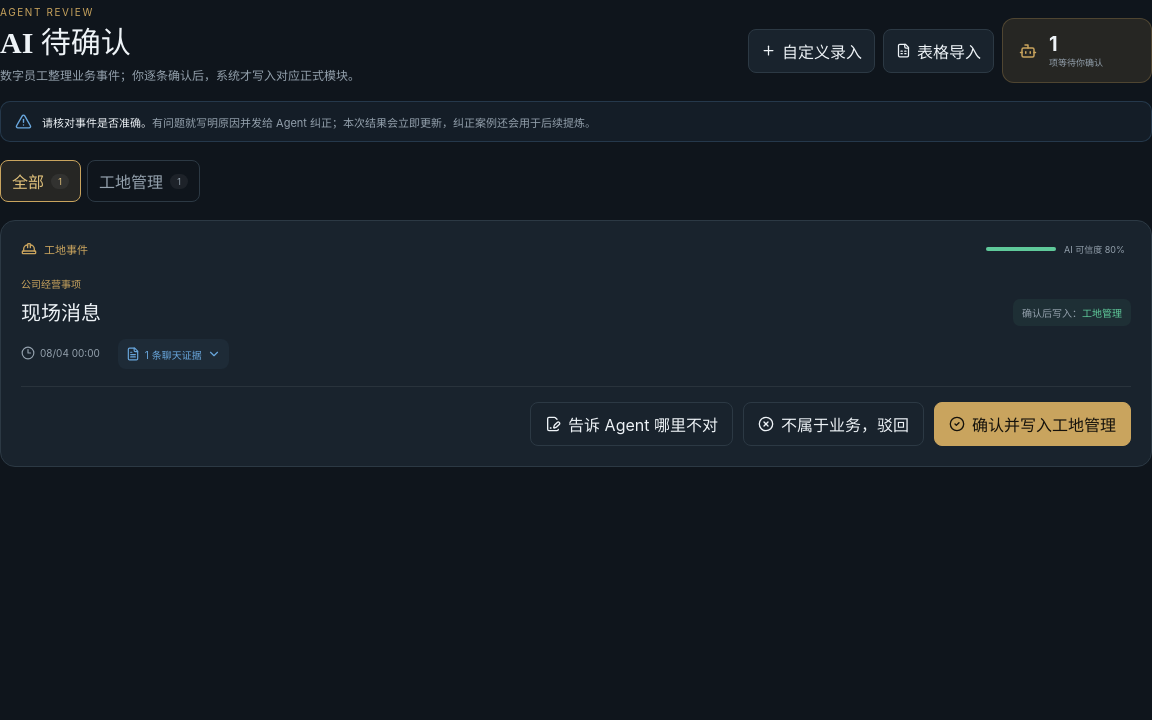
Scenario: AgentReviewPage › lets the owner label an unknown WeChat sender without AI
Click the button "1 条聊天证据" at (173, 354), box [118,339,229,369]
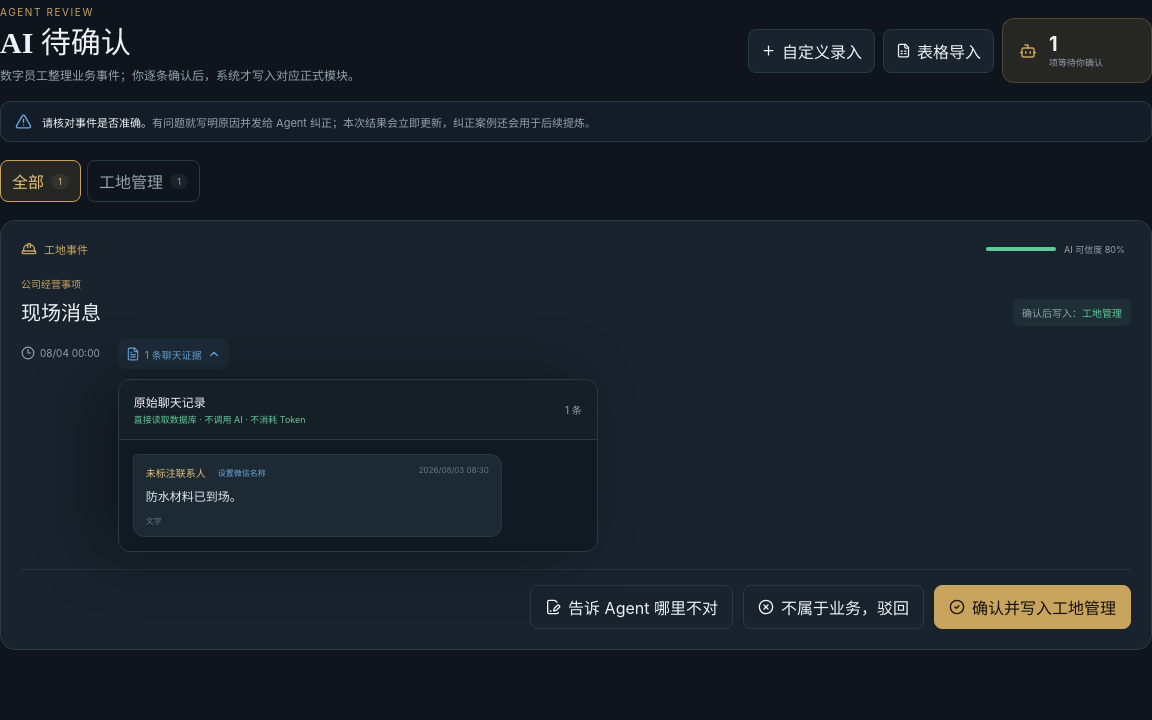
Expected: the text "未标注联系人" is shown, [146,465,206,480]
Click the button "设置微信名称" at (242, 472), box [214,466,270,479]
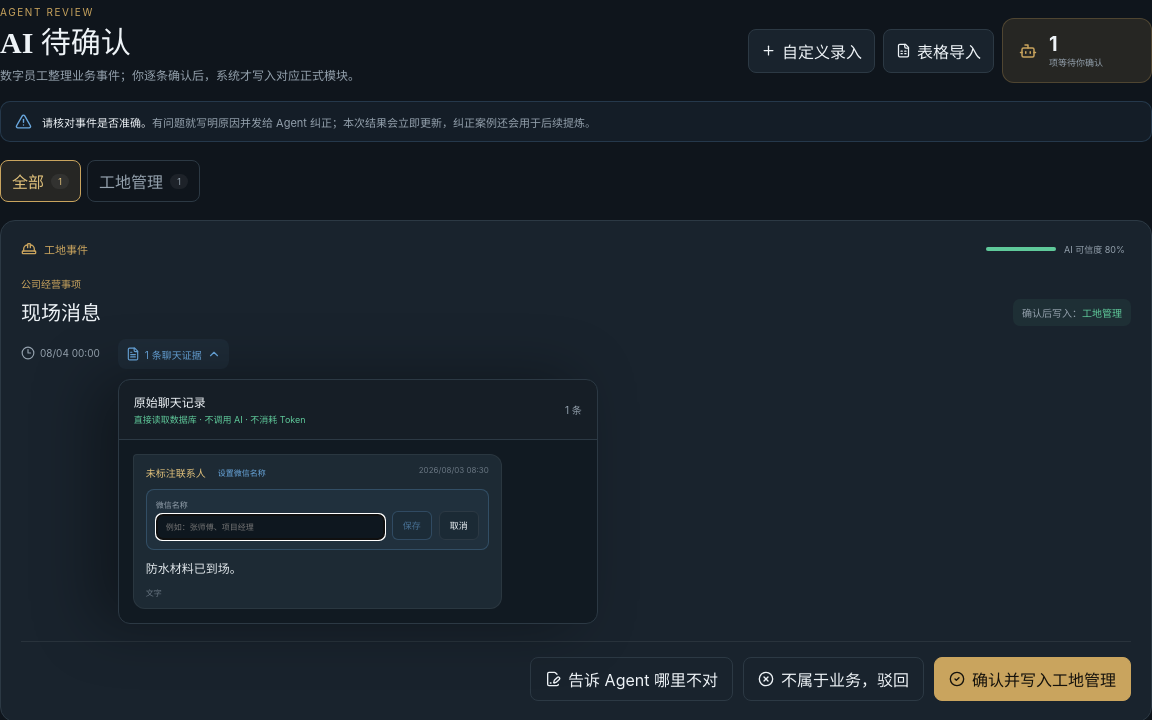
Type "张师傅" into the field with placeholder "例如：张师傅、项目经理" at (270, 527), box [156,514,385,540]
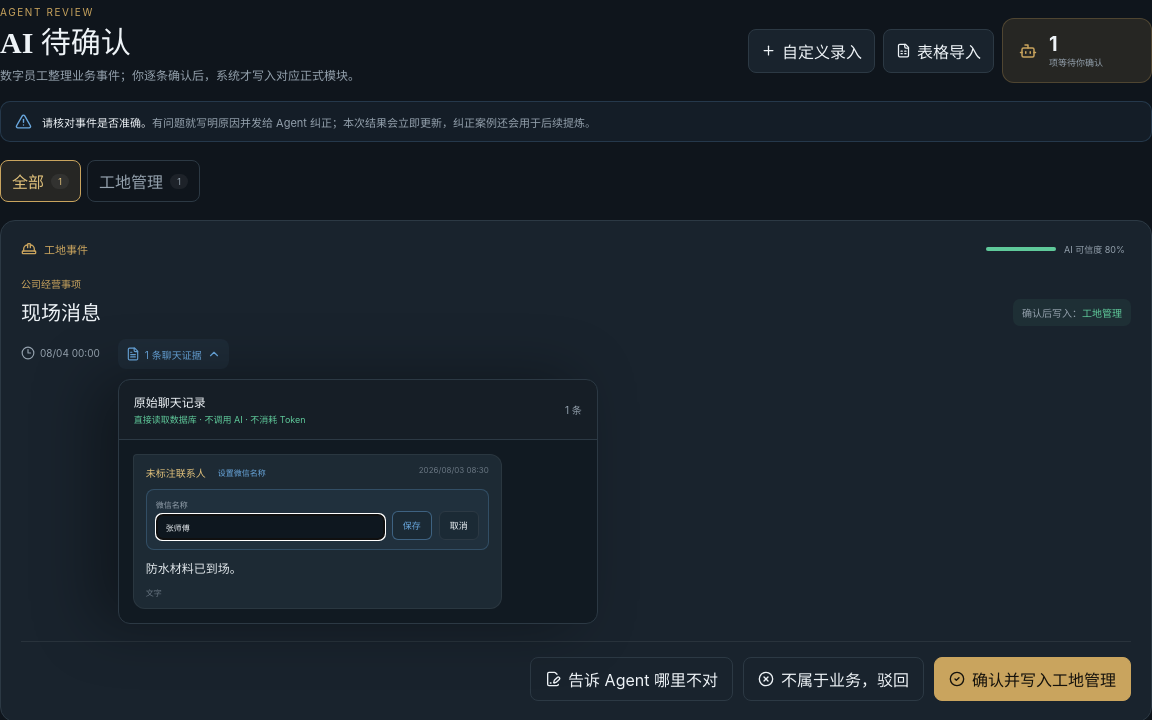
Click the button "保存" at (412, 526), box [392,511,432,540]
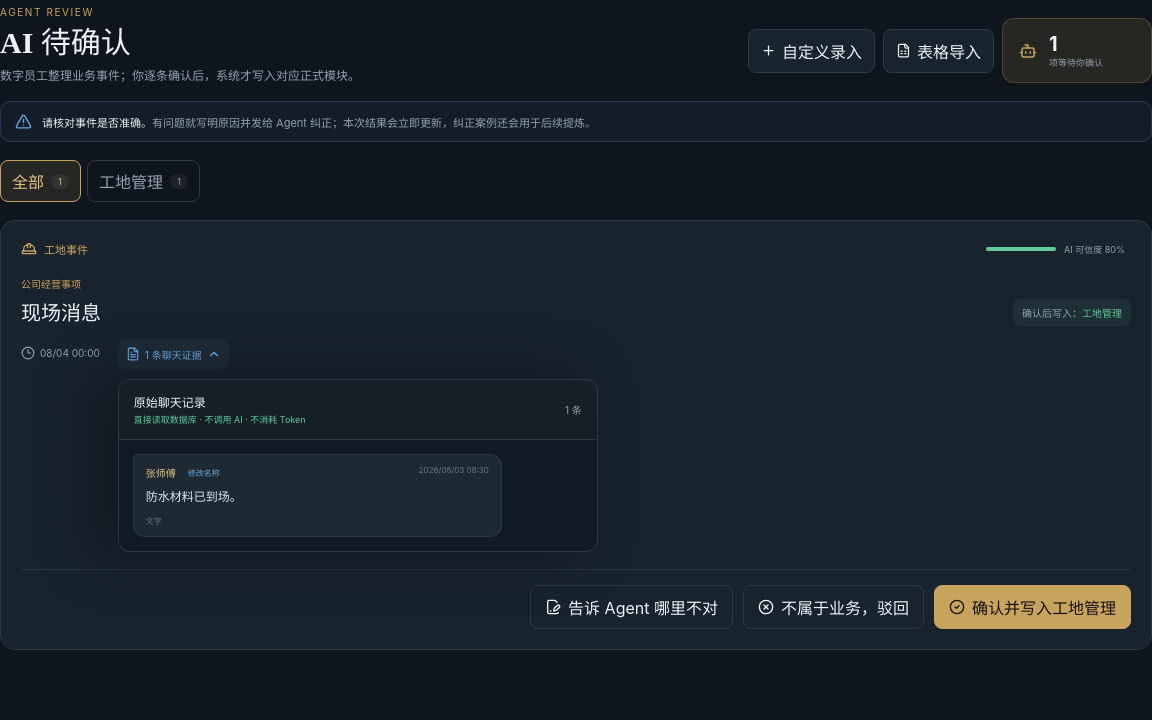
Expected: the text "张师傅" is shown, [146,465,176,480]
